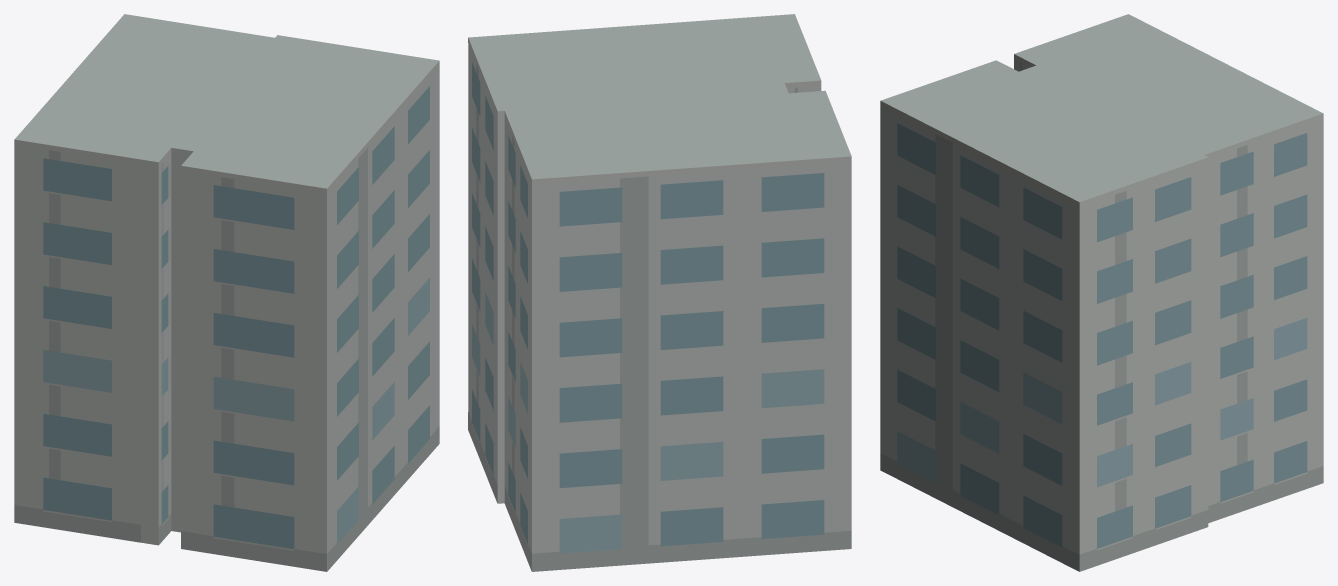
File: survey-upis-32948563.glb
3 views of the same model, side by side, from view 1: azimuth 30°, elevation 25°; view 2: azimuth 150°, elevation 25°; view 3: azimuth 270°, elevation 25° (orthographic). The views are drawn at different scales.
Parts seen in each view (by area): view 1: survey-upis-32948563.tmp; view 2: survey-upis-32948563.tmp; view 3: survey-upis-32948563.tmp.
Boxes of the visible parts, x1,y1,x2,y2 form: survey-upis-32948563.tmp: [14, 14, 439, 571]; survey-upis-32948563.tmp: [468, 14, 851, 571]; survey-upis-32948563.tmp: [880, 14, 1323, 571].
Bounding box in the file's own units: 19.58 × 17.92 × 19.47.
